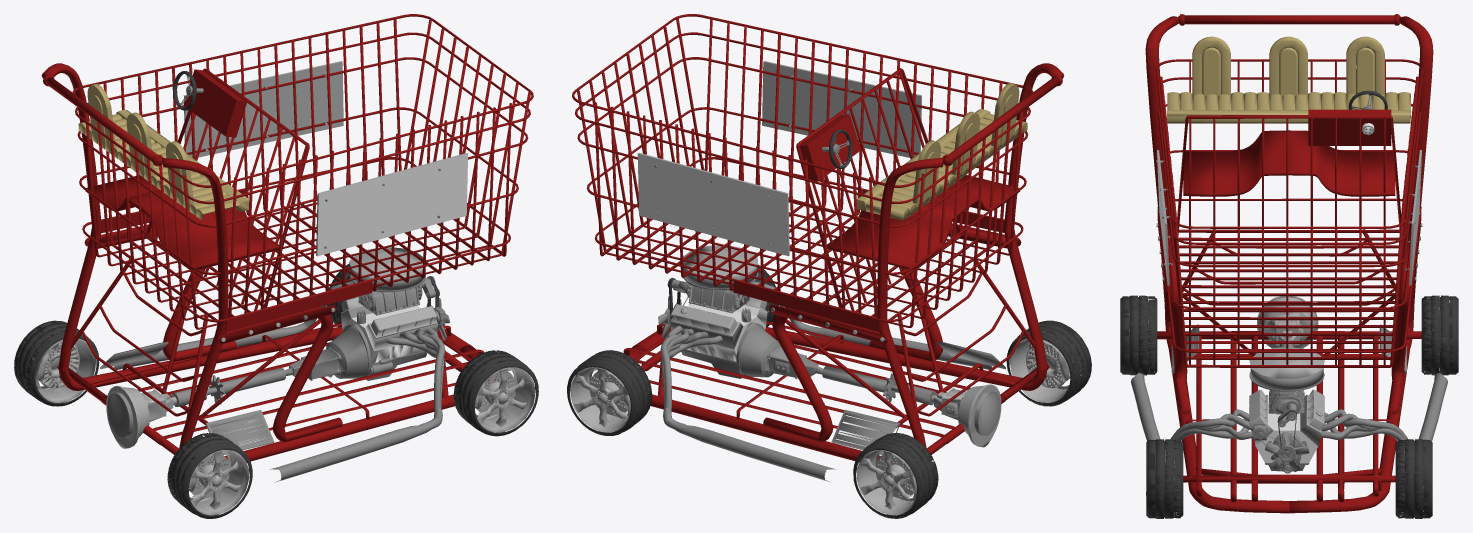
The model's file is bigred_decimated_wheels_flipped.glb.
3 renders of one model, left to right at view 1: azimuth 30°, elevation 25°; view 2: azimuth 150°, elevation 25°; view 3: azimuth 270°, elevation 25°, orthographic.
Visible parts, largest first — view 1: Big_Red1_Untitled; view 2: Big_Red1_Untitled; view 3: Big_Red1_Untitled.
Part boxes in pixels (x1,y1,x2,y2): Big_Red1_Untitled: [14, 14, 538, 518]; Big_Red1_Untitled: [567, 14, 1091, 518]; Big_Red1_Untitled: [1120, 14, 1458, 518].
Size of the model in its own units: 0.7874 by 0.6831 by 0.6114.
